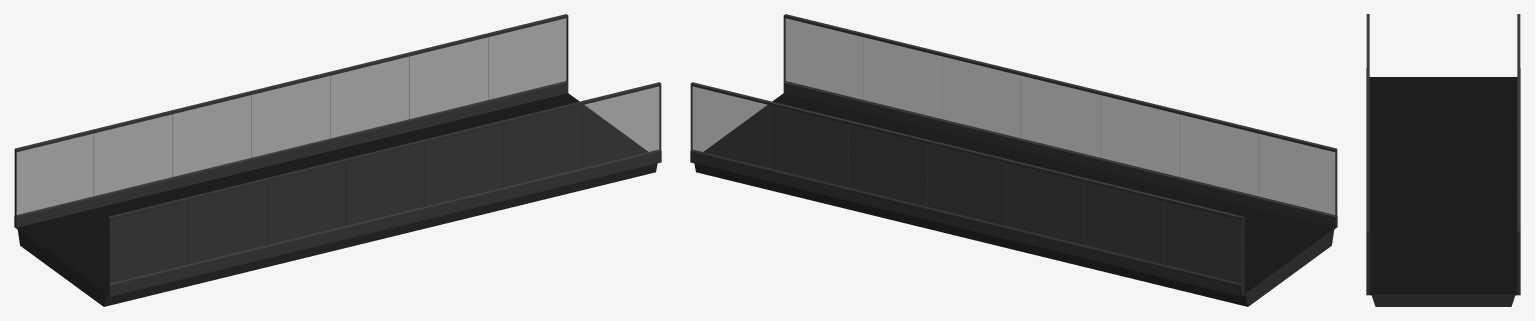
The model's file is Composite_Glass.glb.
3 views of the same model, side by side, from view 1: azimuth 30°, elevation 25°; view 2: azimuth 150°, elevation 25°; view 3: azimuth 270°, elevation 25° (orthographic). The views are drawn at different scales.
Bounding box in the file's own units: 10 × 1.61 × 3.
4 materials, 1 textured.
